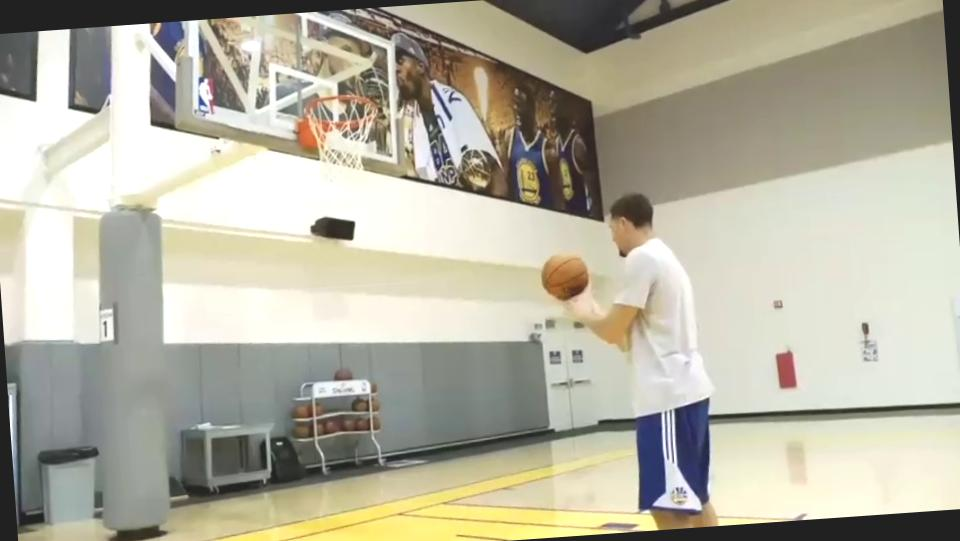hoop: (301, 90, 381, 146)
